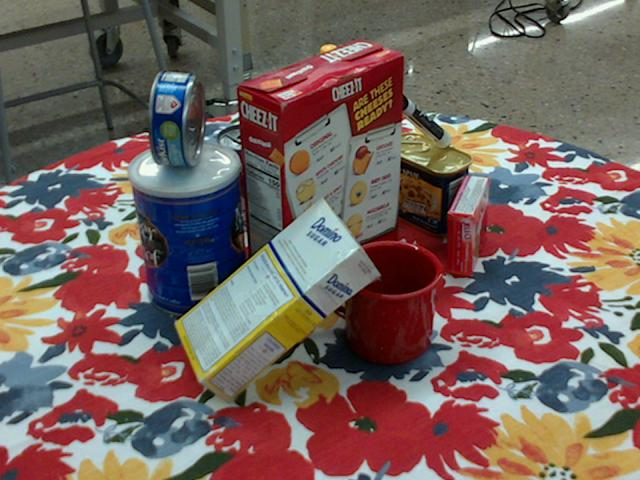cracker_box: (235, 39, 406, 305)
gelatin_box: (447, 174, 491, 277)
large_marker: (385, 85, 452, 146)
master_chef_can: (128, 140, 246, 319)
mug: (320, 238, 443, 364)
mustard_bottle: (297, 44, 371, 222)
potted_meat_can: (383, 131, 474, 235)
sugar_box: (174, 197, 379, 407)
tomato_soup_can: (217, 122, 283, 231)
tuna_fish_can: (148, 69, 203, 165)
